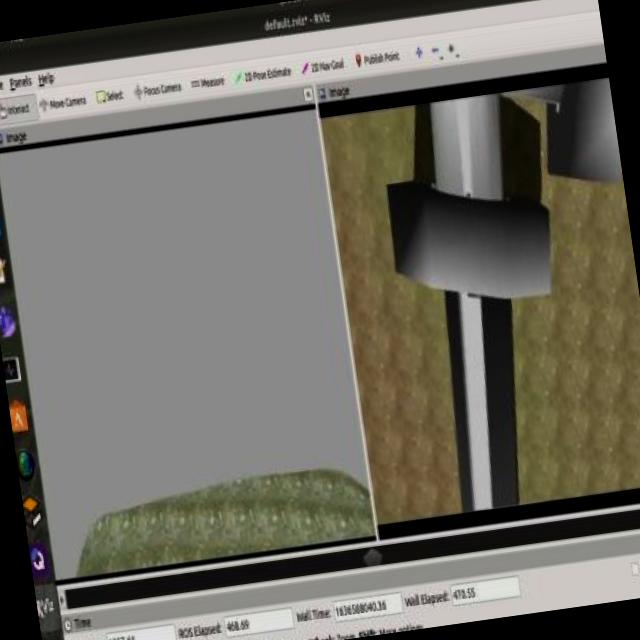gas: (418, 94, 528, 304), (433, 297, 538, 512)
